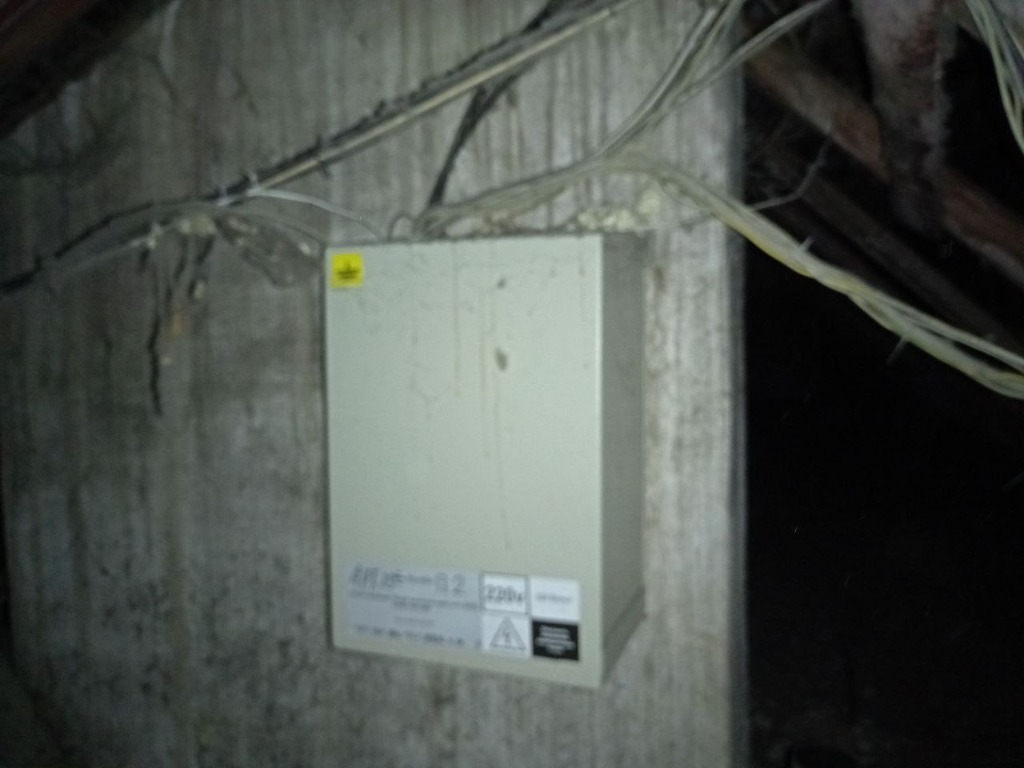sv-5: (313, 221, 620, 698)
